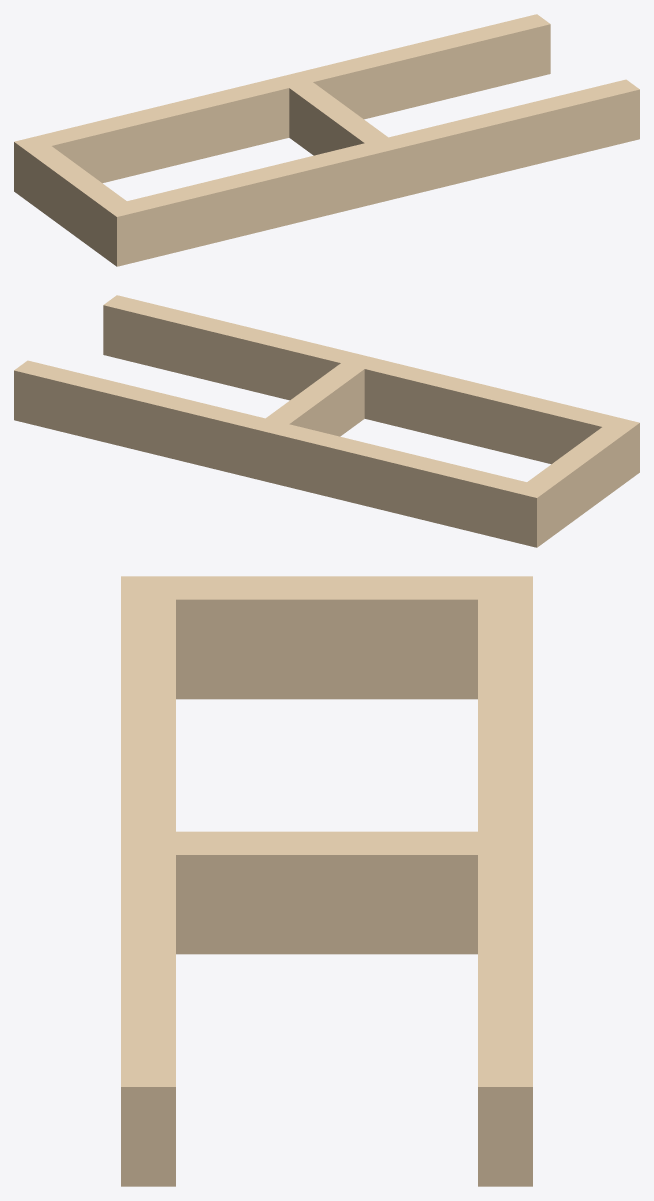
The model's file is Arm.dae.
3 renders of one model, top to bottom at view 1: azimuth 30°, elevation 25°; view 2: azimuth 150°, elevation 25°; view 3: azimuth 270°, elevation 25°, orthographic. The views are drawn at different scales.
Visible parts, largest first — view 1: Generic Structure Piece.034; view 2: Generic Structure Piece.034; view 3: Generic Structure Piece.034.
Boxes of the visible parts, box(x1,y1,x2,y2) form: Generic Structure Piece.034: box(14, 14, 639, 266); Generic Structure Piece.034: box(14, 295, 639, 547); Generic Structure Piece.034: box(121, 576, 532, 1186).
Size of the model in its own units: 0.5588 by 0.1905 by 0.0508.
